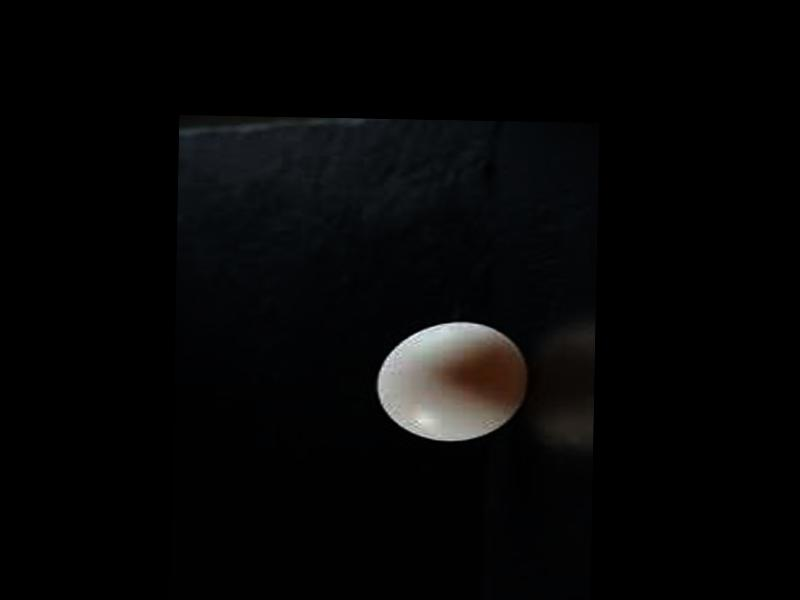Eggs: (371, 319, 528, 442)
